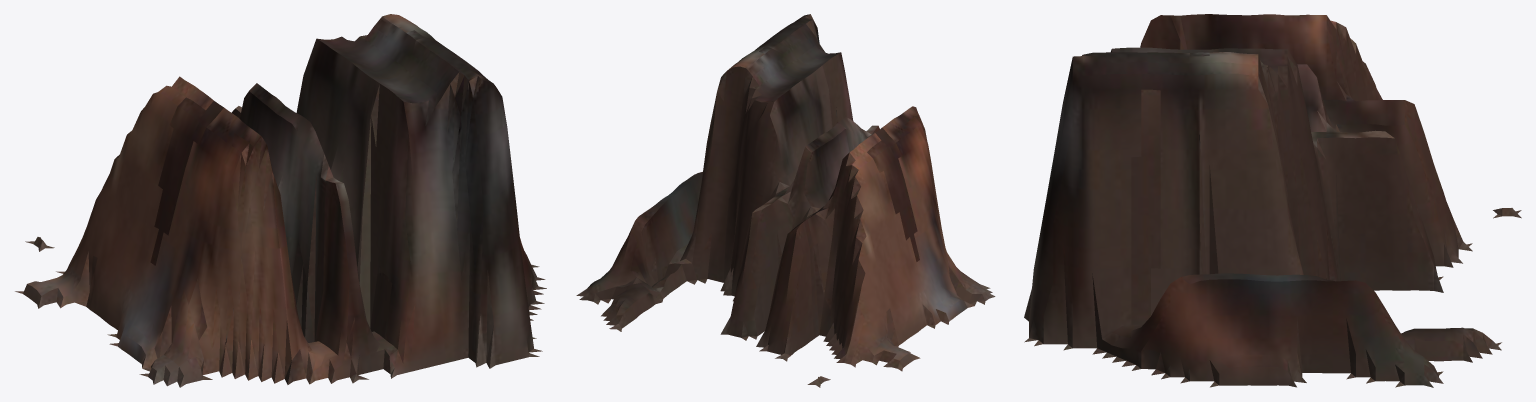
File: fulgoran-ruin-huge.glb
3 views of the same model, side by side, from view 1: azimuth 30°, elevation 25°; view 2: azimuth 150°, elevation 25°; view 3: azimuth 270°, elevation 25° (orthographic). The views are drawn at different scales.
Parts seen in each view (by area): view 1: body; view 2: body; view 3: body.
Boxes of the visible parts, <box> form: body: <box>15,14,546,387</box>; body: <box>576,14,995,387</box>; body: <box>1024,14,1521,387</box>.
Size of the model in its own units: 6.26 by 3.82 by 6.38.
1 material, 1 textured.
